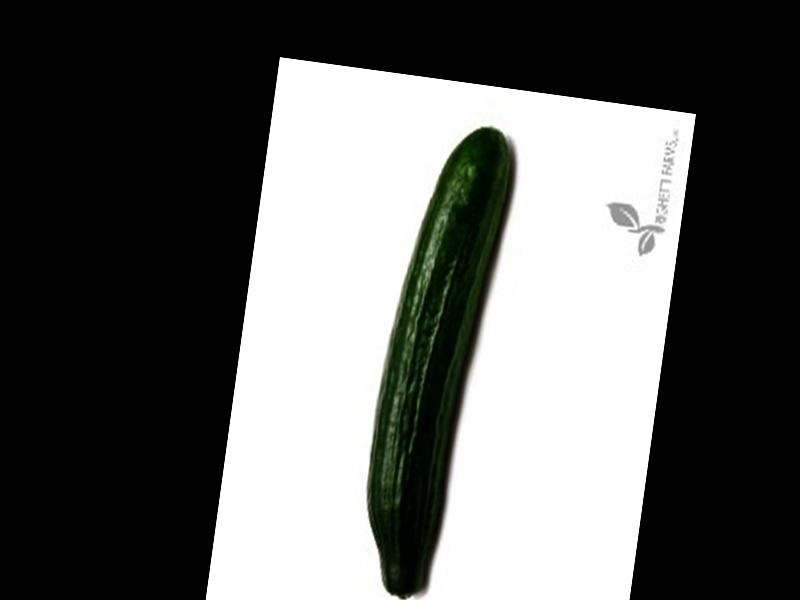Cucumber: (352, 115, 516, 600)
